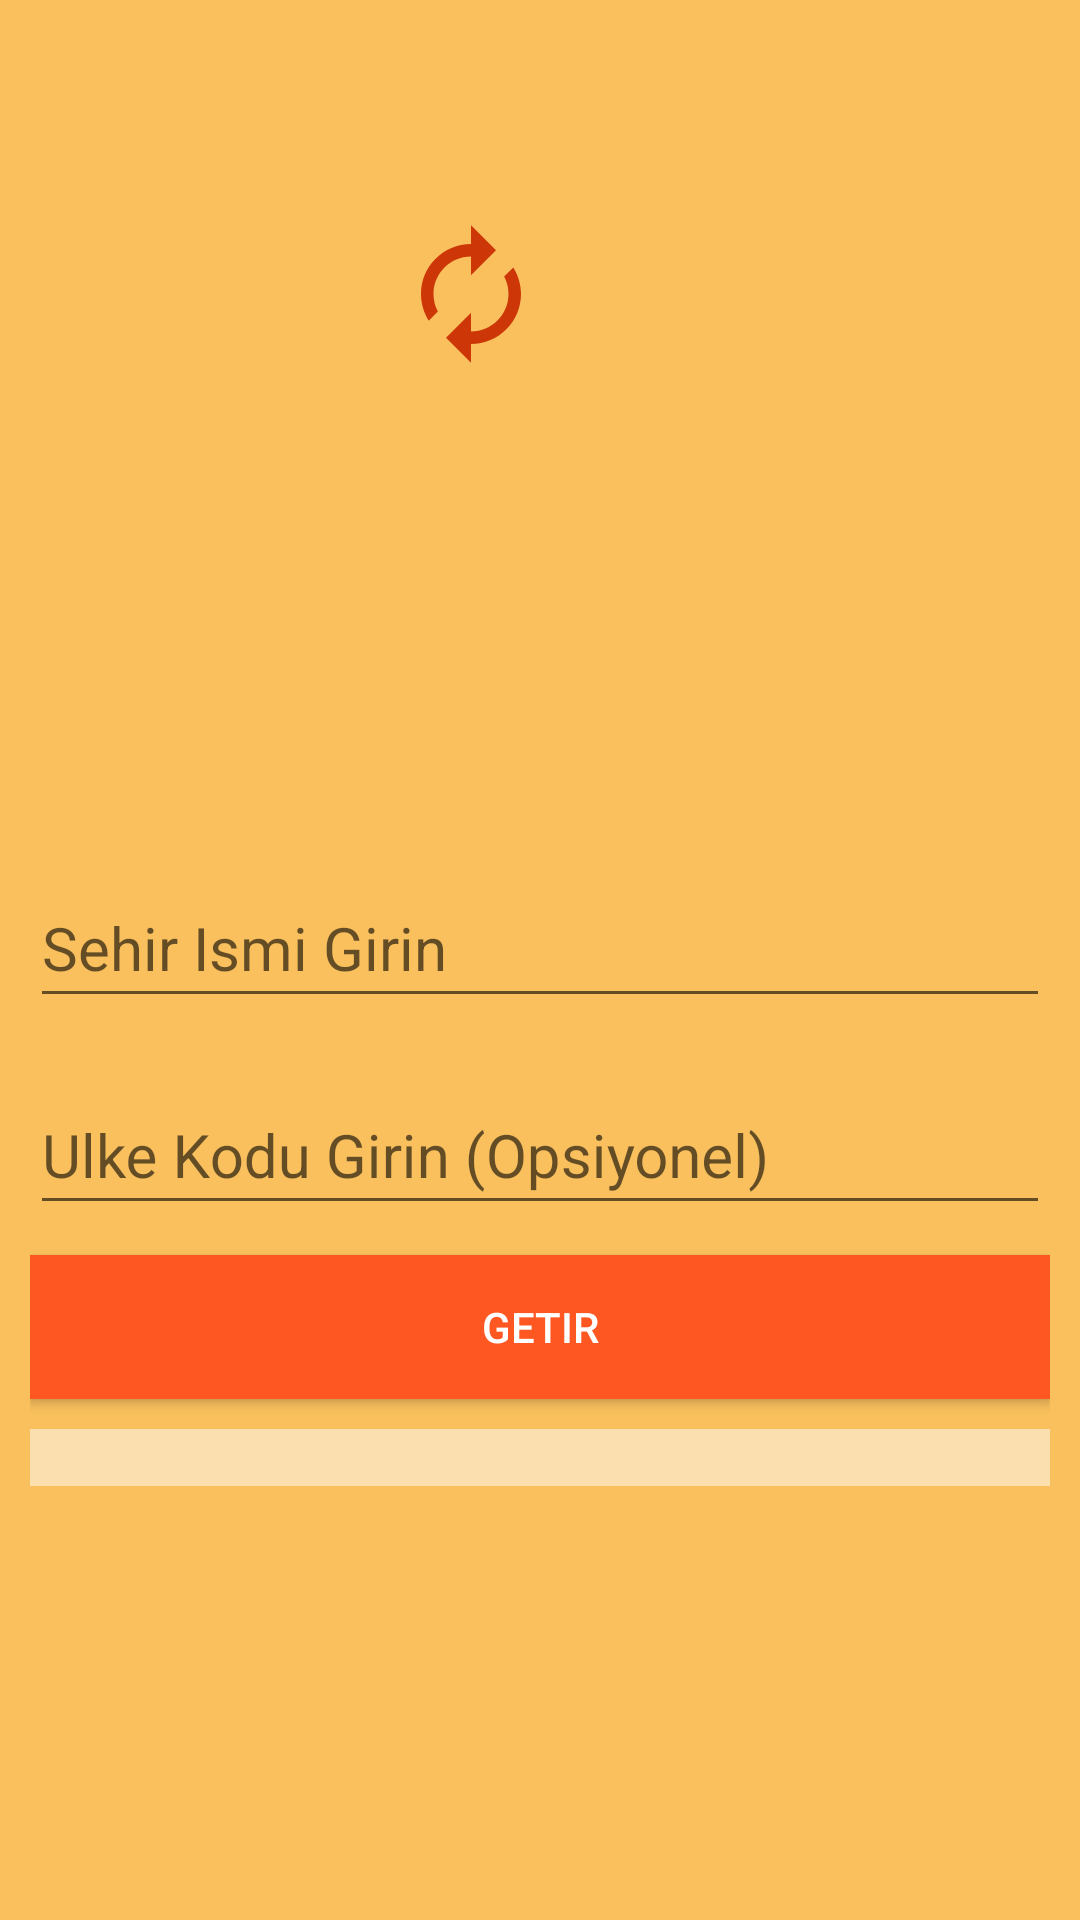

Icons on this 1080px x 1920px Android screen, each with its box as (x1, y1, x2, y2):
Refresh Button: (421, 225, 521, 363)
